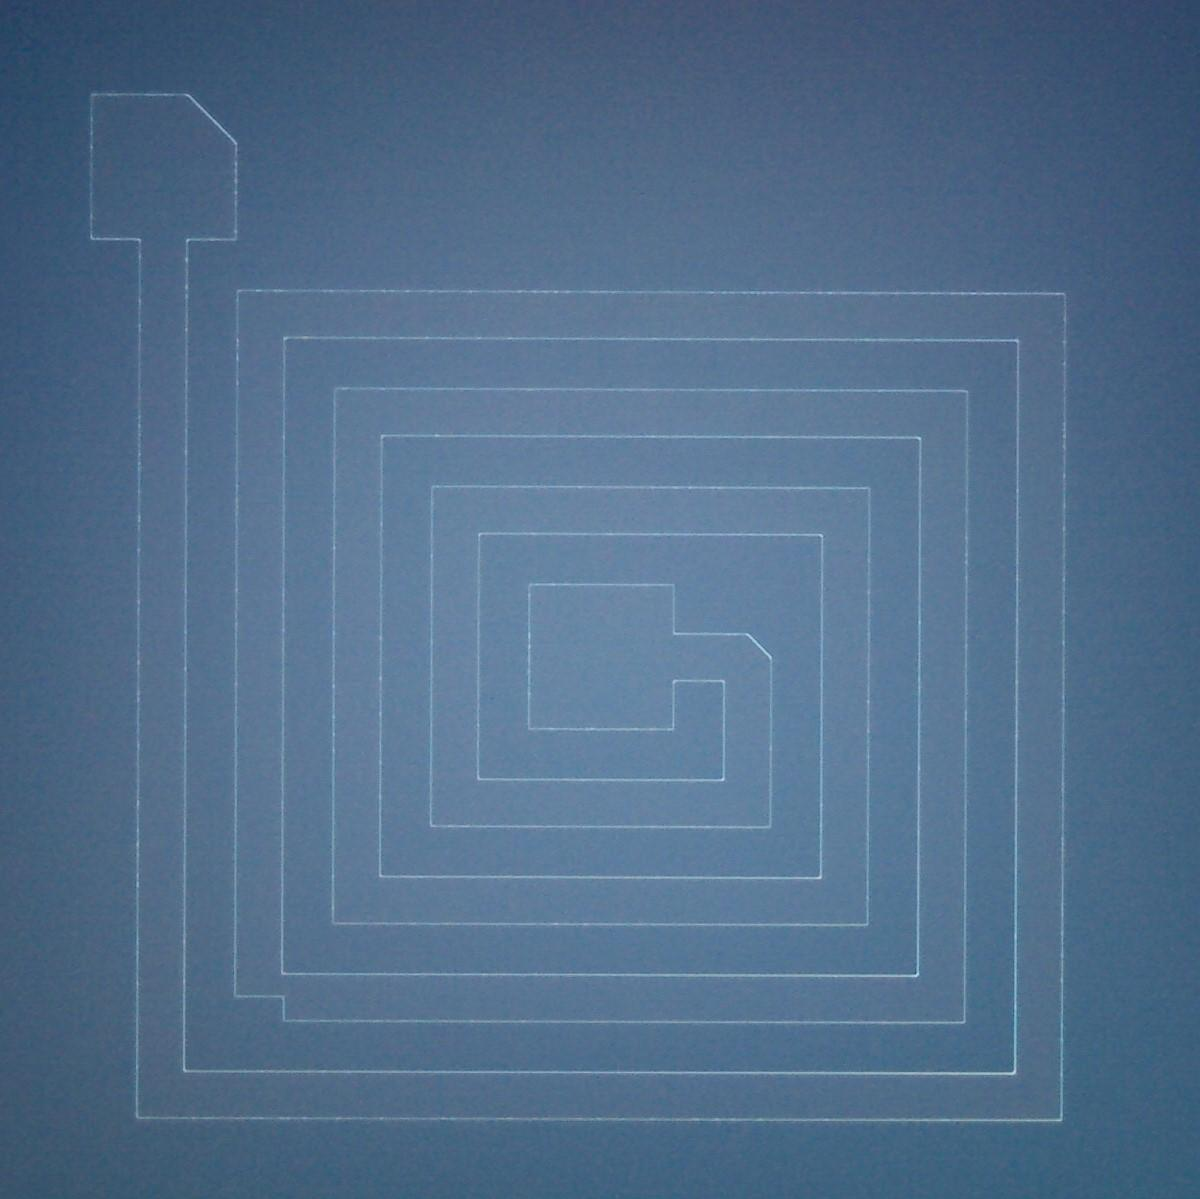cut: (170, 80, 263, 164), (222, 949, 317, 1029), (741, 621, 787, 676)
